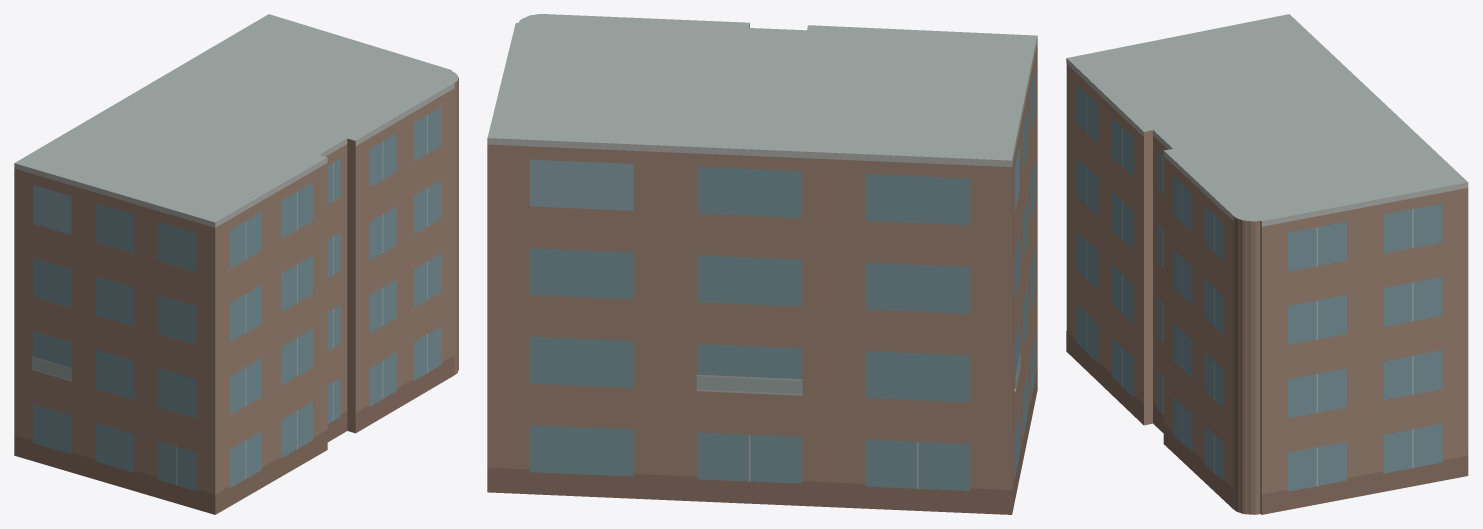
File: survey-upis-33011324.glb
3 renders of one model, left to right at view 1: azimuth 30°, elevation 25°; view 2: azimuth 150°, elevation 25°; view 3: azimuth 270°, elevation 25°, orthographic. The views are drawn at different scales.
Visible parts, largest first — view 1: survey-upis-33011324.tmp; view 2: survey-upis-33011324.tmp; view 3: survey-upis-33011324.tmp.
Boxes of the visible parts, x1,y1,x2,y2 form: survey-upis-33011324.tmp: [14, 14, 458, 514]; survey-upis-33011324.tmp: [487, 14, 1037, 514]; survey-upis-33011324.tmp: [1066, 14, 1468, 514].
Size of the model in its own units: 20.17 by 13.3 by 16.52.
